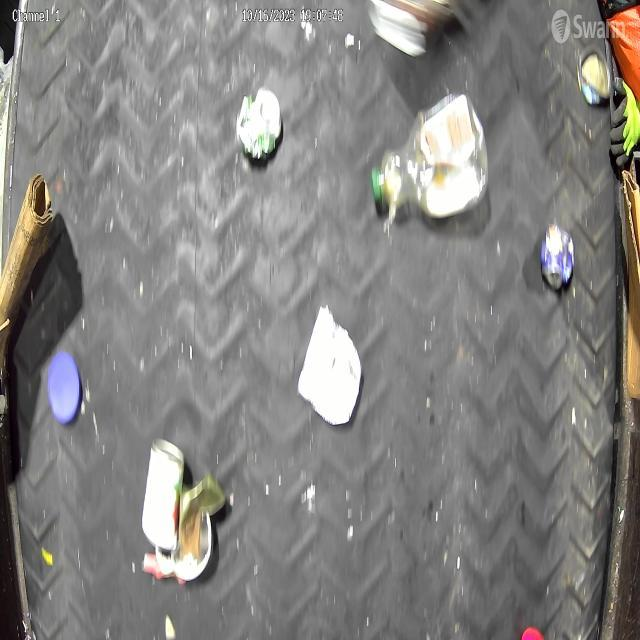can: (141, 436, 185, 556), (232, 83, 282, 165), (538, 222, 576, 292), (576, 46, 612, 107)
plastic_bottle: (370, 86, 490, 228)
